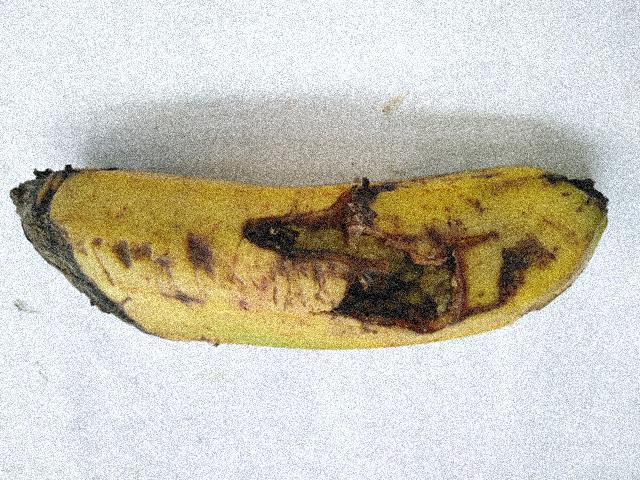rotten: (259, 172, 564, 353), (0, 142, 173, 394)
